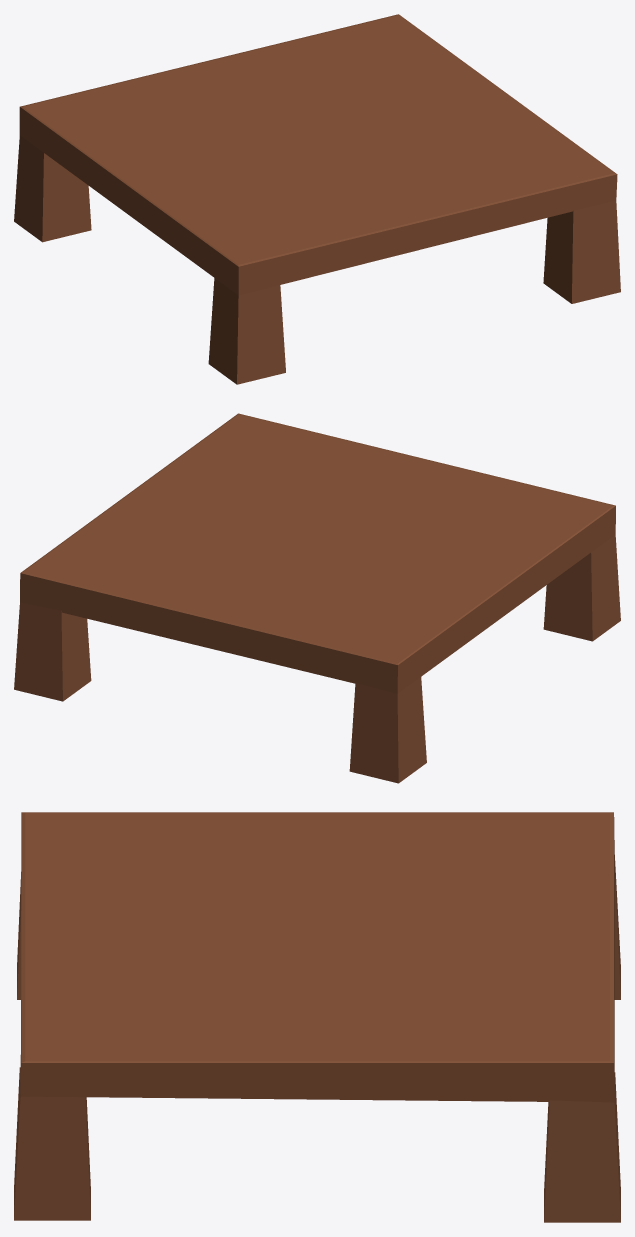
Rendered from JapanTable.fbx.
The picture shows the model from 3 angles, top to bottom: view 1: azimuth 30°, elevation 25°; view 2: azimuth 150°, elevation 25°; view 3: azimuth 270°, elevation 25°; orthographic projection. The views are drawn at different scales.
Parts seen in each view (by area): view 1: Plane.005; view 2: Plane.005; view 3: Plane.005.
Boxes of the visible parts, x1=… form: Plane.005: x1=14, y1=14, x2=620, y2=384; Plane.005: x1=14, y1=413, x2=620, y2=783; Plane.005: x1=14, y1=812, x2=620, y2=1222.
Bounding box in the file's own units: 126 × 36.33 × 127.
